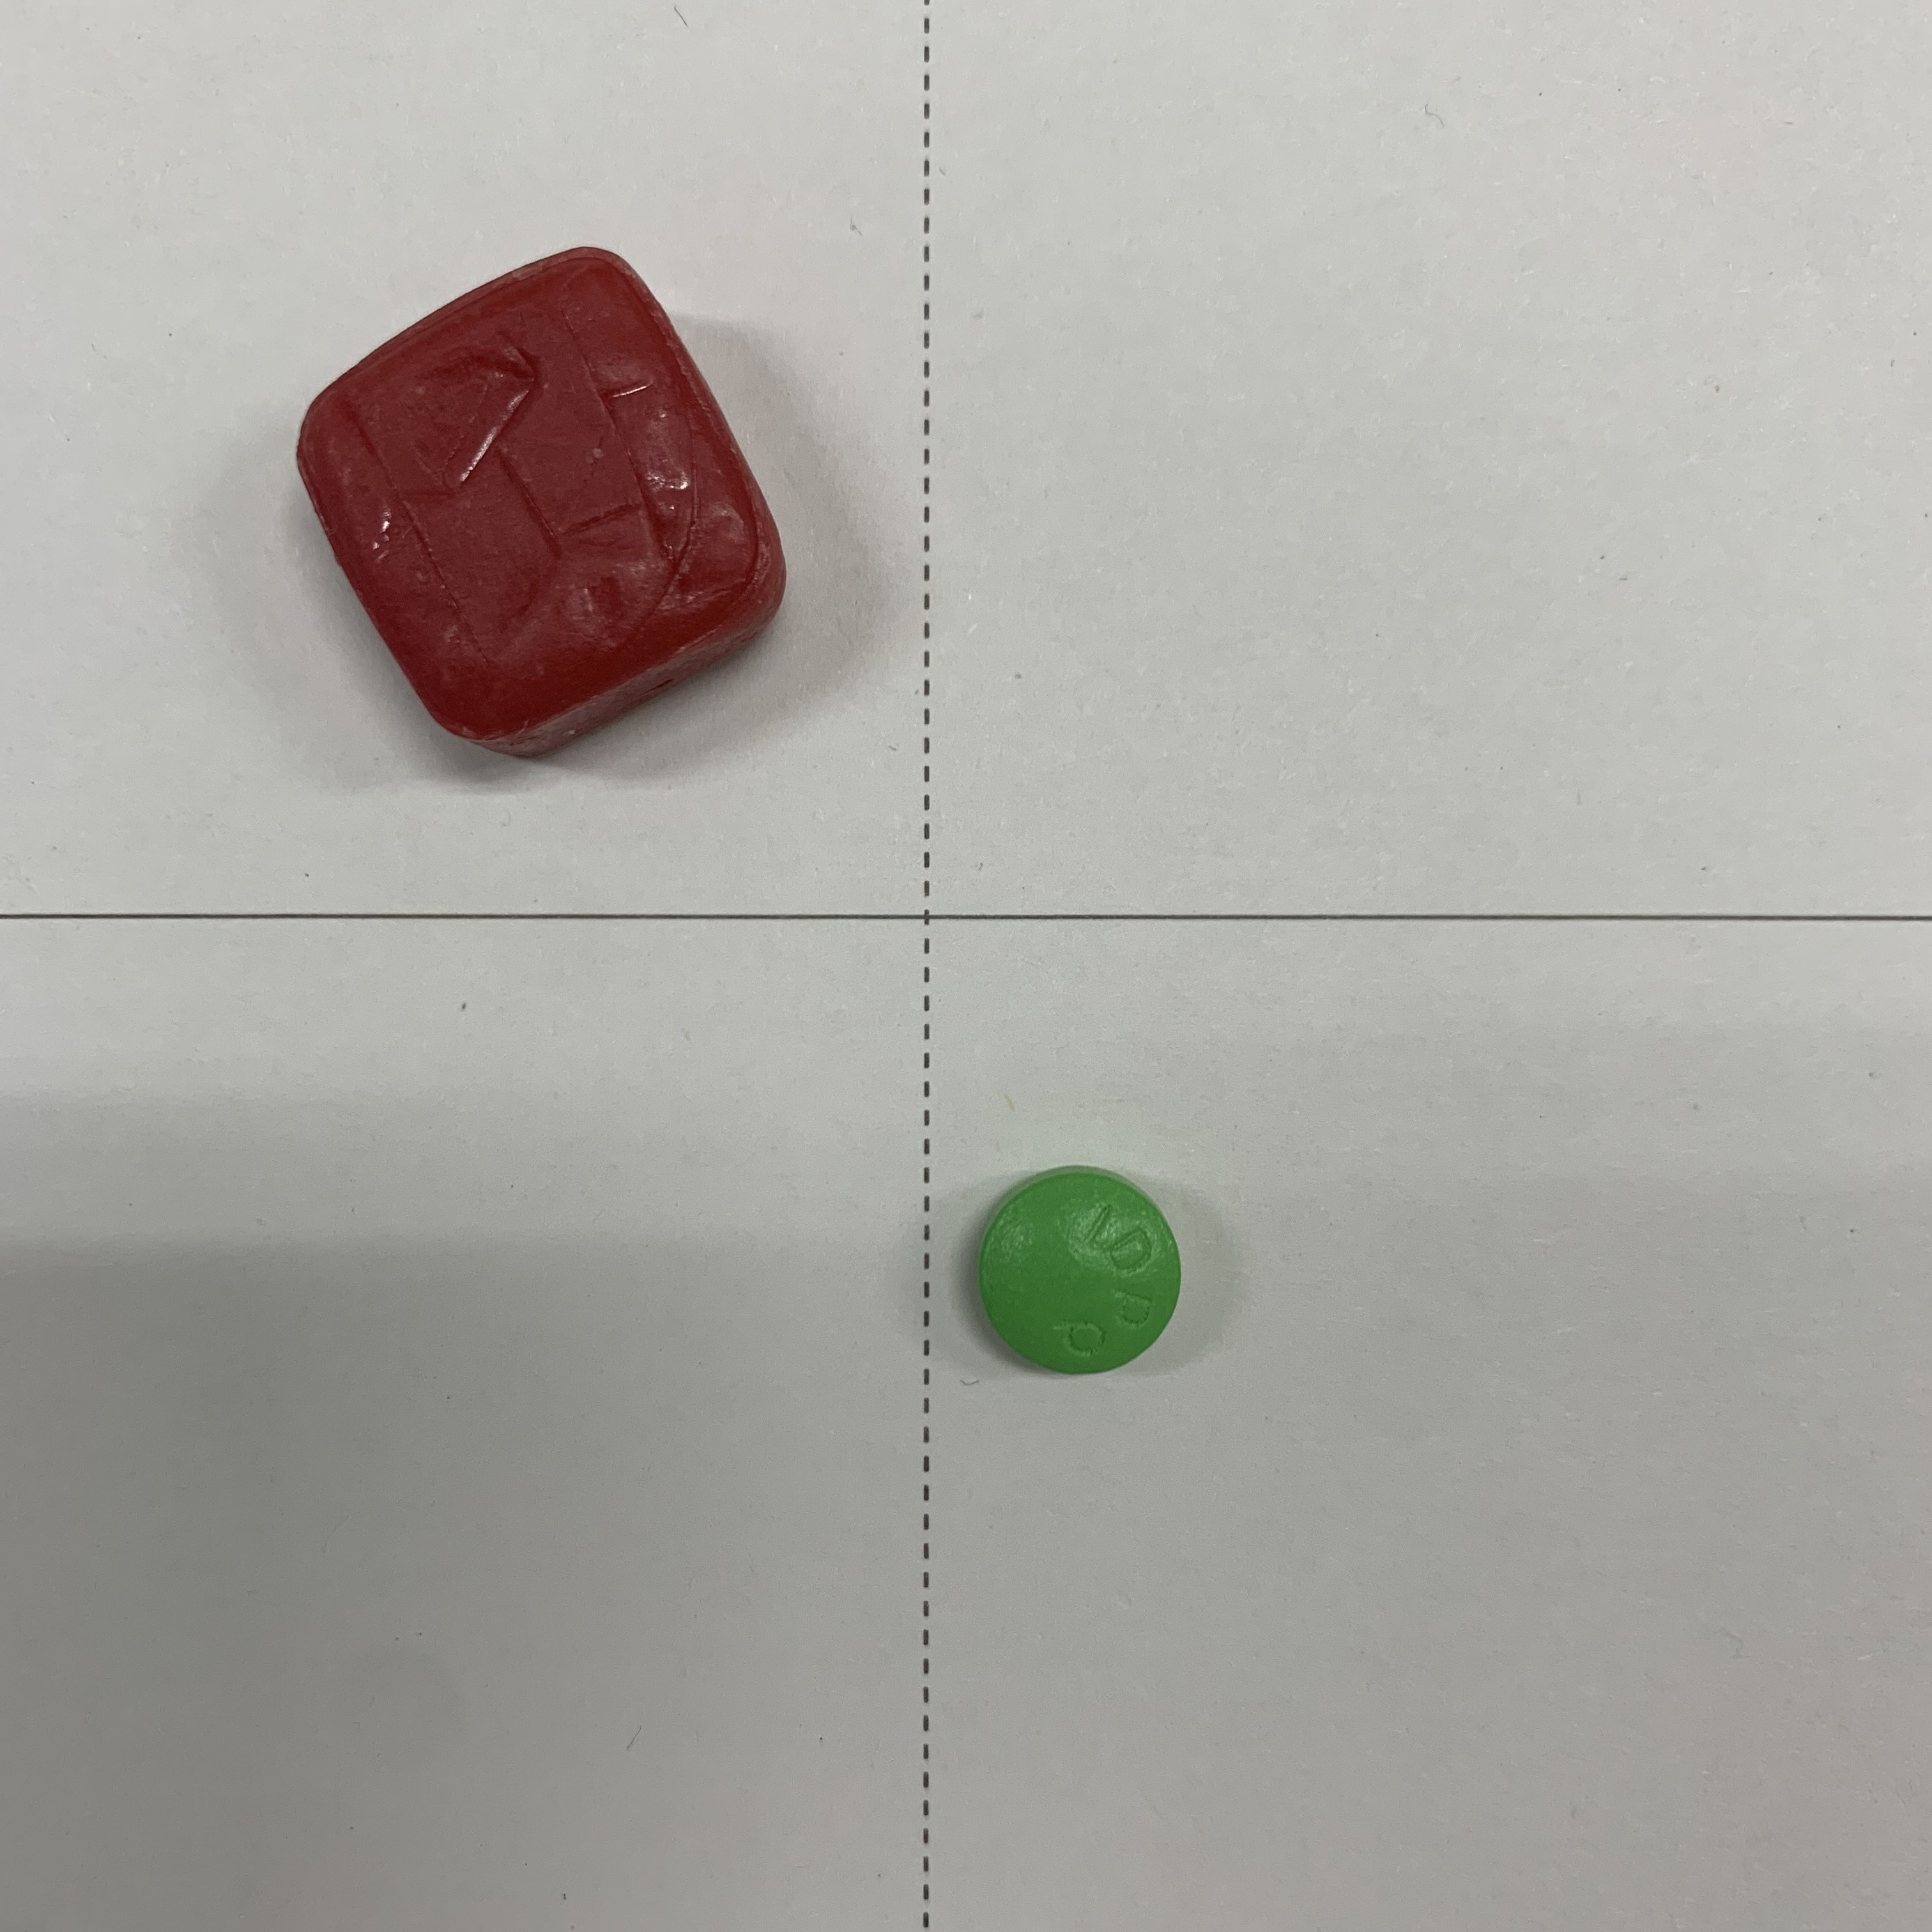cir_drug: (945, 1155, 1224, 1403)
sqr_drug: (272, 234, 814, 775)
